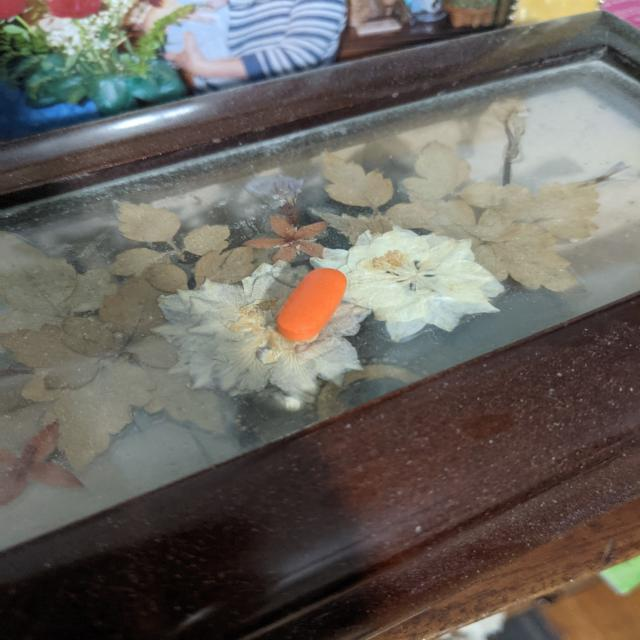non-organic waste: (275, 267, 348, 341)
